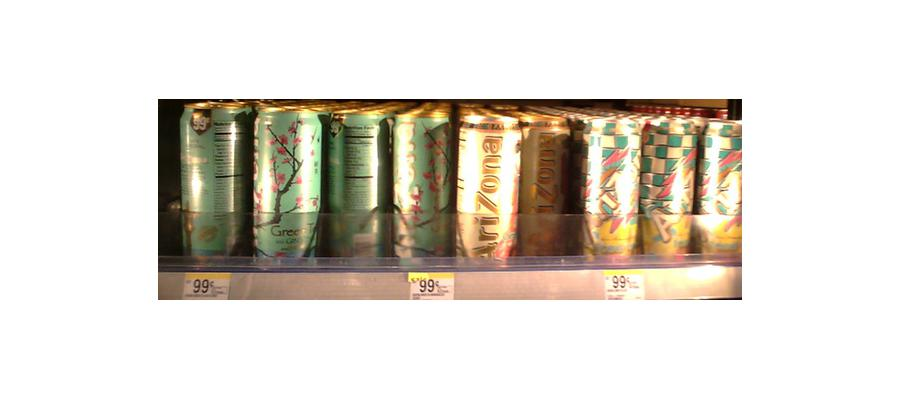bottle: (176, 102, 248, 260), (250, 106, 319, 264), (457, 118, 519, 265), (394, 108, 451, 262), (327, 111, 386, 259), (586, 119, 641, 259), (641, 117, 693, 260), (521, 116, 569, 255), (706, 112, 745, 260)
